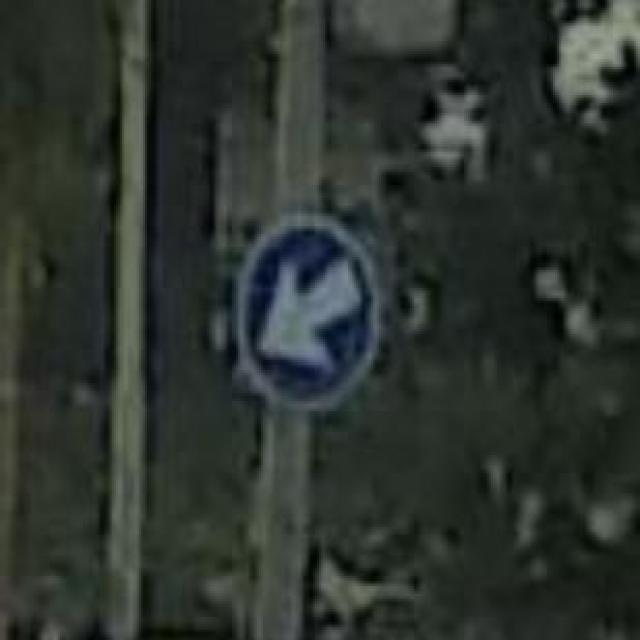traffic sign: (238, 221, 377, 401)
